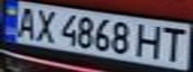4: (54, 11, 78, 47)
6: (90, 17, 115, 53)
8: (109, 19, 136, 56), (75, 15, 96, 49)
A: (12, 5, 39, 39)
H: (133, 21, 166, 60)
T: (157, 25, 190, 62)
X: (30, 7, 60, 44)
